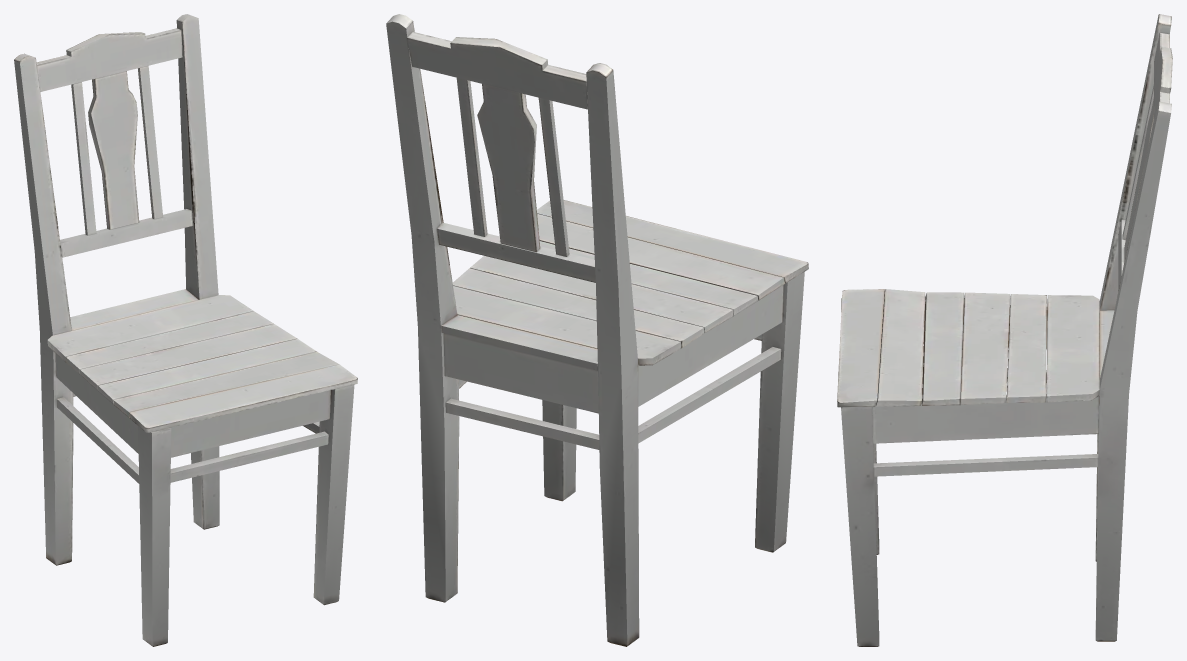
Rendered from painted_wooden_chair_01.glb.
The picture shows the model from 3 angles, left to right: view 1: azimuth 30°, elevation 25°; view 2: azimuth 150°, elevation 25°; view 3: azimuth 270°, elevation 25°; orthographic projection. The views are drawn at different scales.
Parts seen in each view (by area): view 1: painted_wooden_chair_01; view 2: painted_wooden_chair_01; view 3: painted_wooden_chair_01.
Part boxes in pixels (<box>): painted_wooden_chair_01: <box>14,14,357,646</box>; painted_wooden_chair_01: <box>386,14,808,646</box>; painted_wooden_chair_01: <box>837,14,1172,646</box>.
Bounding box in the file's own units: 0.4298 × 0.9558 × 0.5391.
1 material, 1 textured.
